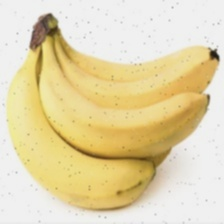banana: (36, 43, 207, 189)
